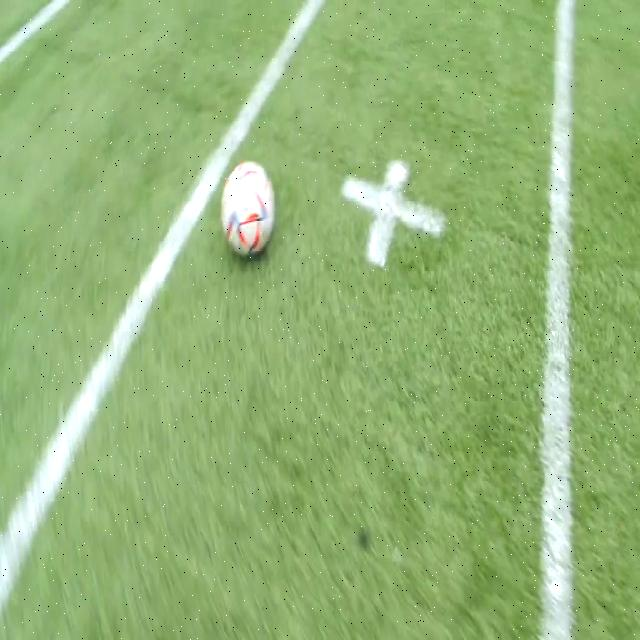ball: (221, 162, 275, 256)
